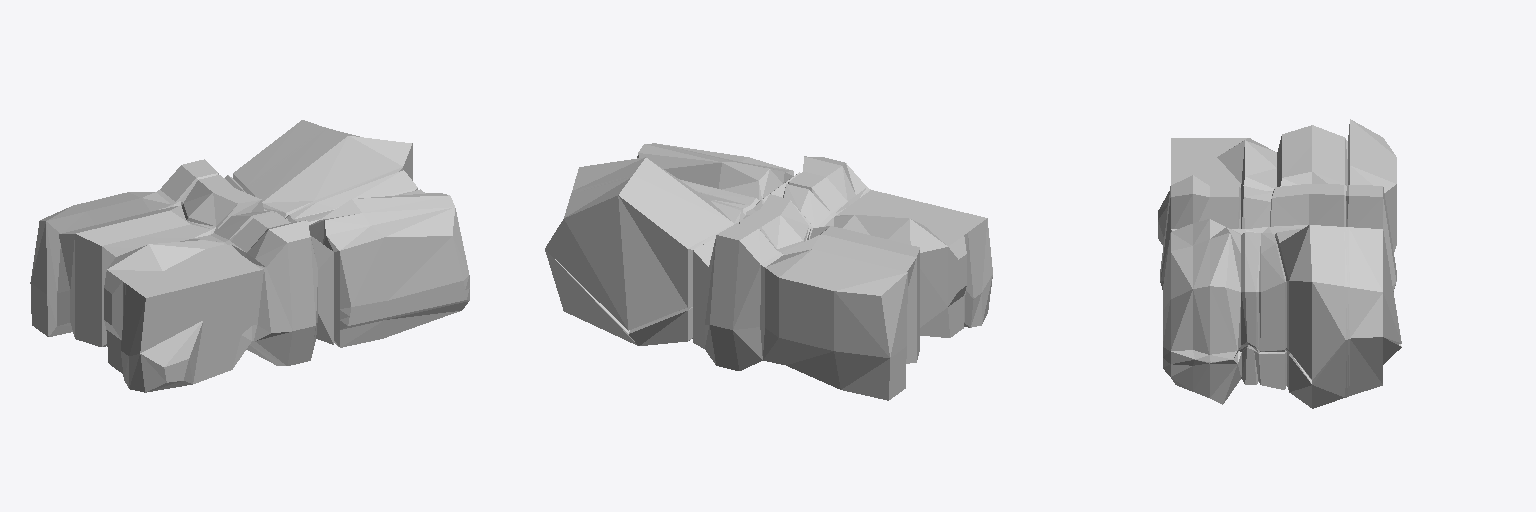
Rendered from Piedra1Low.obj.
The picture shows the model from 3 angles: view 1: azimuth 30°, elevation 25°; view 2: azimuth 150°, elevation 25°; view 3: azimuth 270°, elevation 25°; orthographic projection.
Parts seen in each view (by area): view 1: Piedra1Low; view 2: Piedra1Low; view 3: Piedra1Low.
Boxes of the visible parts, <box> form: Piedra1Low: <box>30,120,469,392</box>; Piedra1Low: <box>545,143,992,400</box>; Piedra1Low: <box>1158,119,1401,408</box>.
Size of the model in its own units: 107 by 48.76 by 64.56.